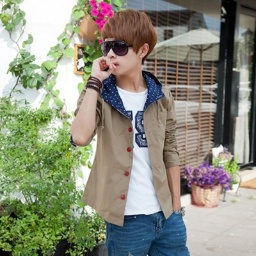face: (100, 9, 158, 72)
